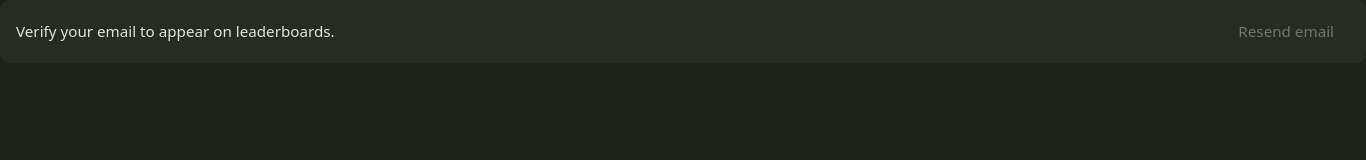
Test case: VerifyEmailBanner › shows a busy state while resending, then confirms
This screenshot has width=1366, height=160.
Later steps or results of the test are not shown.
Expected: the text "Verify your email to appear on leaderboards." is shown, [16,20,335,43]
Click the button "Resend email": [1286, 31] box [1222,12,1350,51]
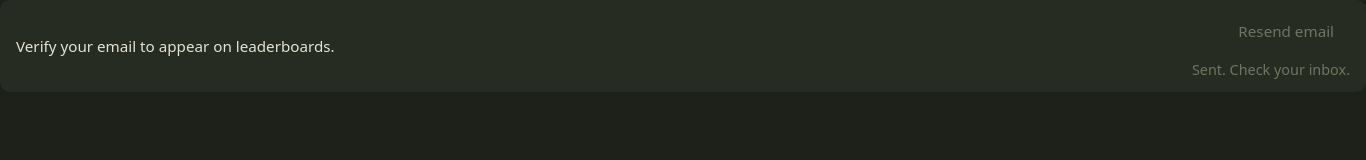
Expected: the message reads "Sent. Check your inbox.", [1192,60,1350,79]
